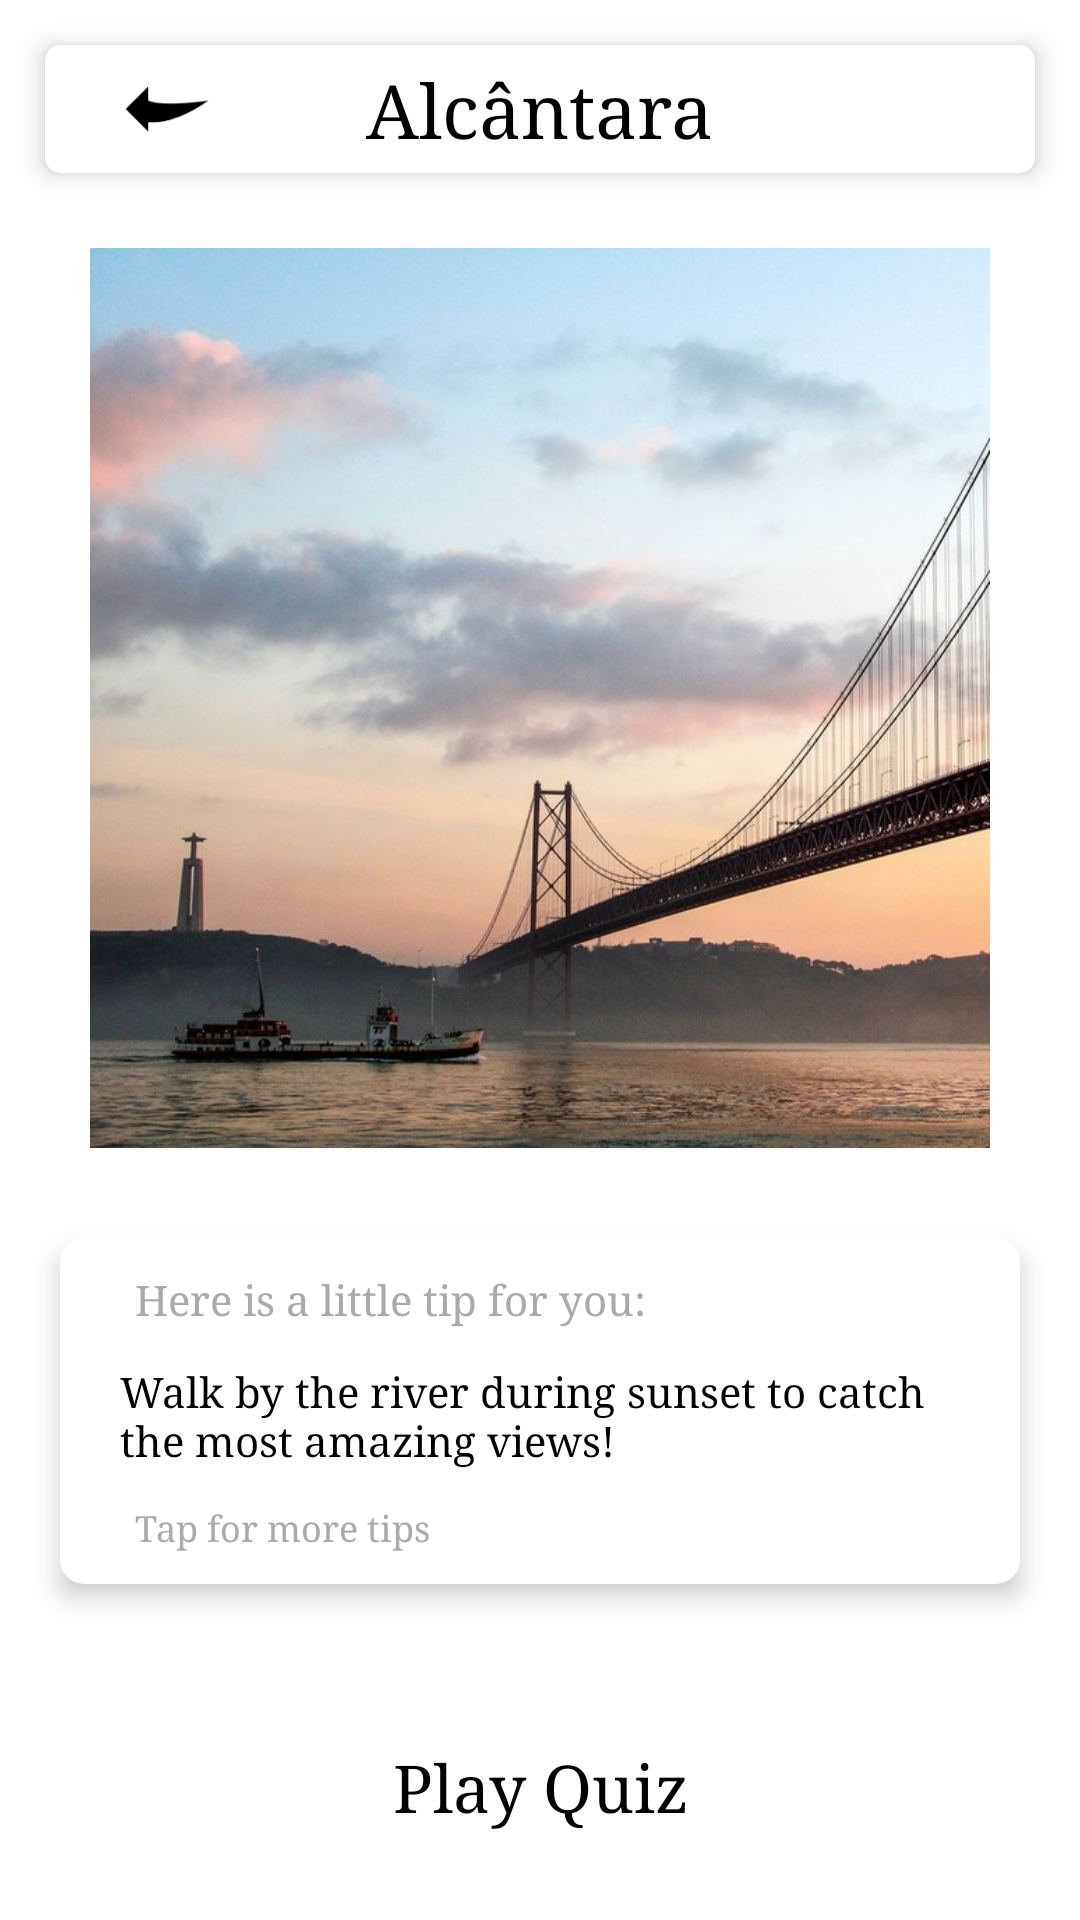

Screen size 1080*1920. Icon name, then its box in pixels as (x1, y1, x2, y2):
back: (125, 86, 208, 132)
